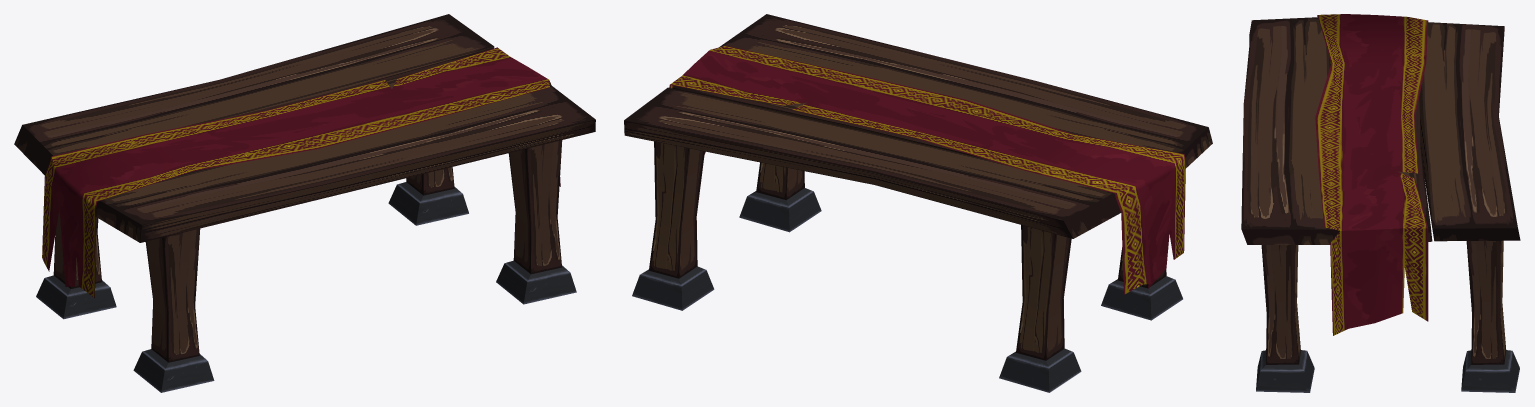
The model's file is SM_PROP_table_dungeon_01.fbx.
3 renders of one model, left to right at view 1: azimuth 30°, elevation 25°; view 2: azimuth 150°, elevation 25°; view 3: azimuth 270°, elevation 25°, orthographic. The views are drawn at different scales.
Parts seen in each view (by area): view 1: SM_PROP_table_dungeon_01, SM_PROP_rug_table_01; view 2: SM_PROP_table_dungeon_01, SM_PROP_rug_table_01; view 3: SM_PROP_table_dungeon_01, SM_PROP_rug_table_01.
Part boxes in pixels (x1,y1,x2,y2): SM_PROP_table_dungeon_01: [14, 14, 595, 392]; SM_PROP_rug_table_01: [42, 47, 560, 297]; SM_PROP_table_dungeon_01: [624, 14, 1212, 392]; SM_PROP_rug_table_01: [669, 45, 1185, 294]; SM_PROP_table_dungeon_01: [1241, 17, 1520, 392]; SM_PROP_rug_table_01: [1315, 14, 1428, 335].
Bounding box in the file's own units: 219 × 76.08 × 114.
